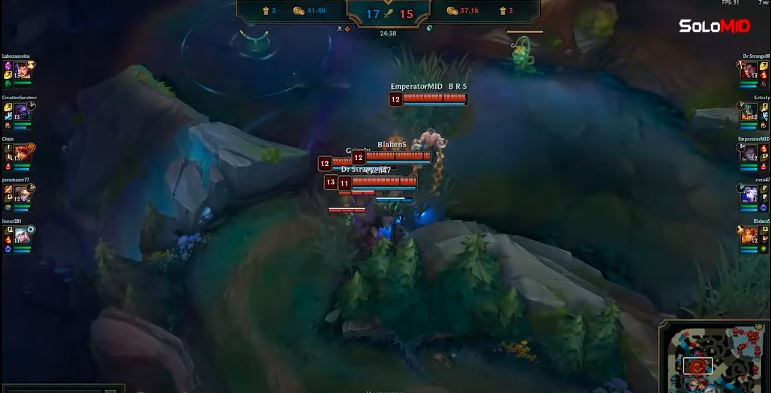dog: (336, 173, 420, 193), (321, 173, 406, 192), (386, 90, 473, 108), (350, 149, 434, 164), (317, 154, 396, 168)
